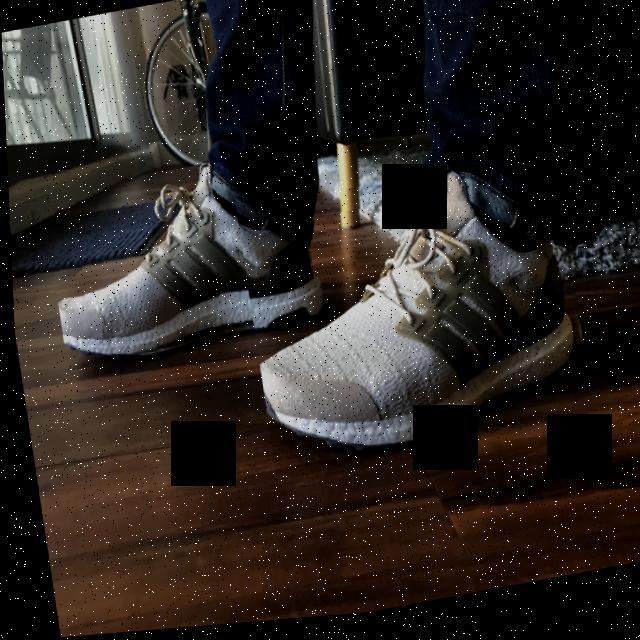shoe: (230, 143, 597, 478), (38, 148, 332, 373)
